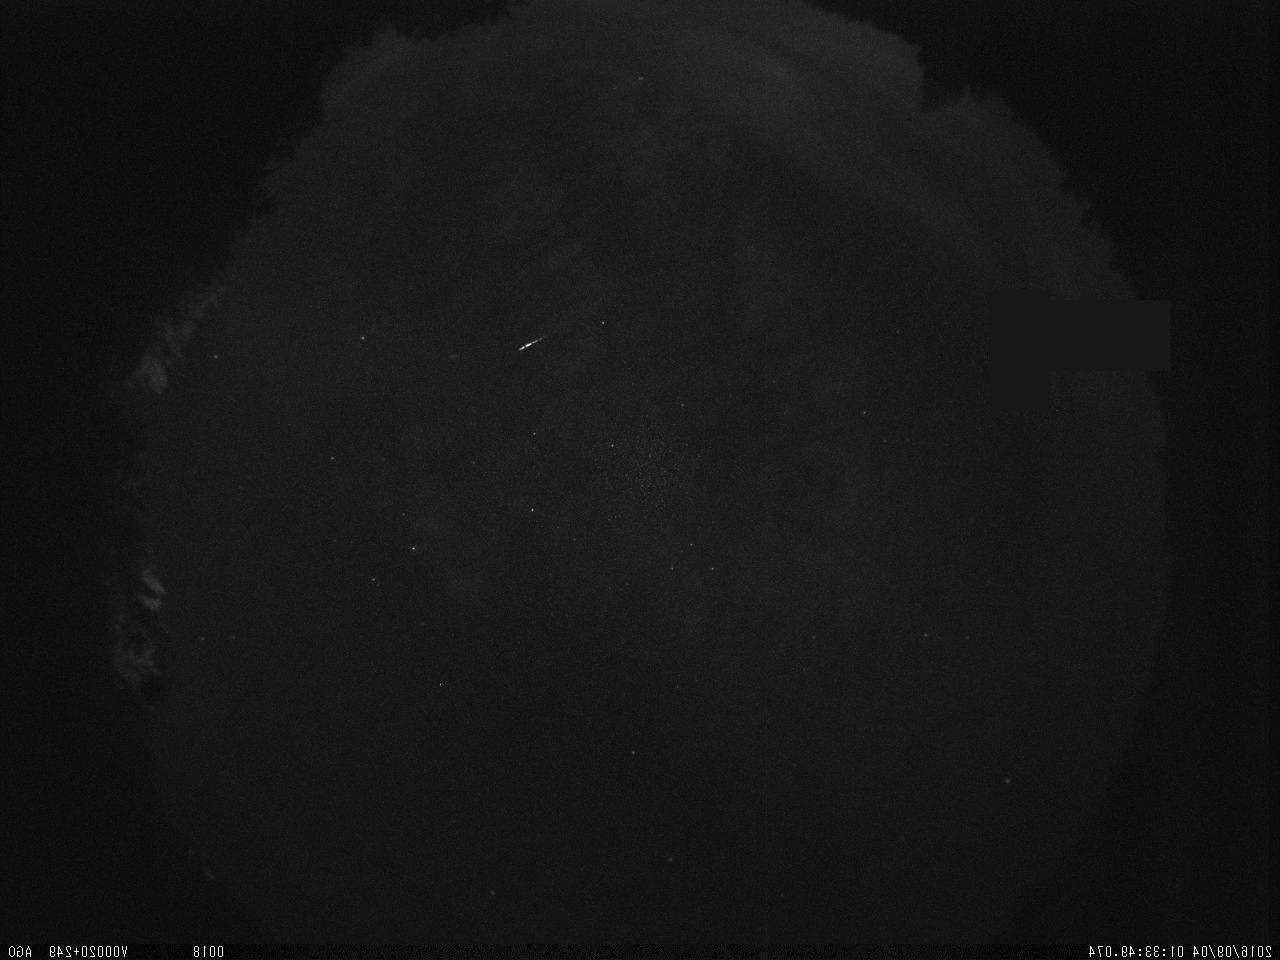meteor: (509, 321, 552, 364)
